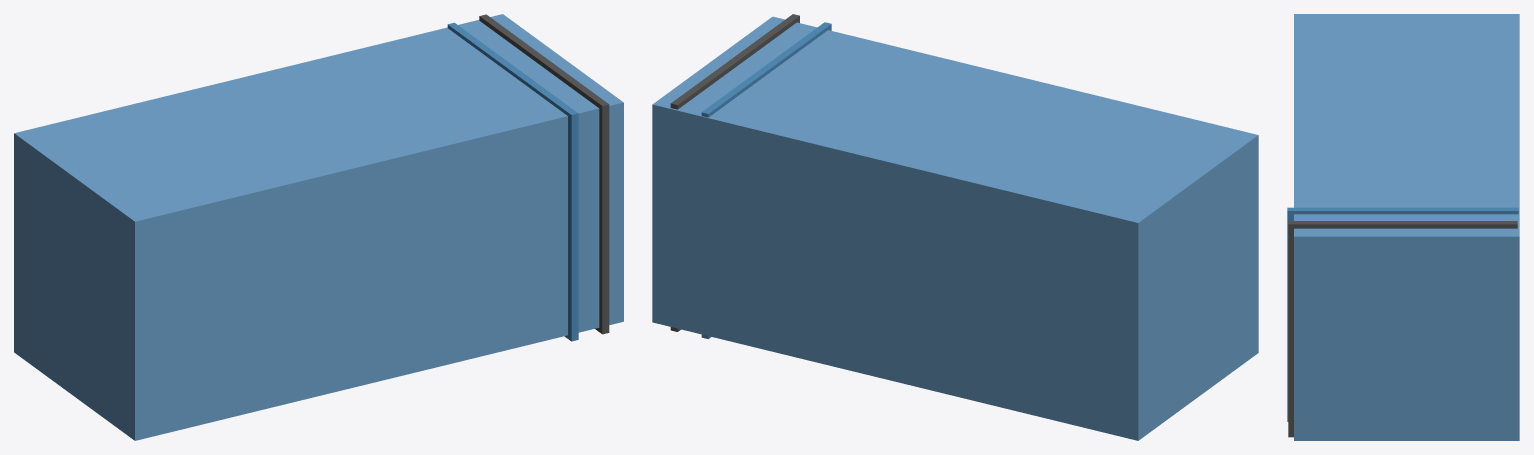
The model's file is decor_shipping_container_blue.glb.
3 renders of one model, left to right at view 1: azimuth 30°, elevation 25°; view 2: azimuth 150°, elevation 25°; view 3: azimuth 270°, elevation 25°, orthographic. The views are drawn at different scales.
Visible parts, largest first — view 1: container_body, door_line, rib; view 2: container_body, door_line, rib; view 3: container_body, door_line, rib.
Part boxes in pixels (x1,y1,x2,y2): container_body: (14, 14, 623, 440); door_line: (479, 14, 609, 334); rib: (447, 22, 578, 341); container_body: (652, 16, 1258, 440); door_line: (670, 14, 799, 331); rib: (701, 22, 831, 339); container_body: (1294, 14, 1519, 440); door_line: (1288, 221, 1517, 437); rib: (1287, 207, 1518, 421).
Size of the model in its own units: 2.8 by 1.25 by 1.24.
